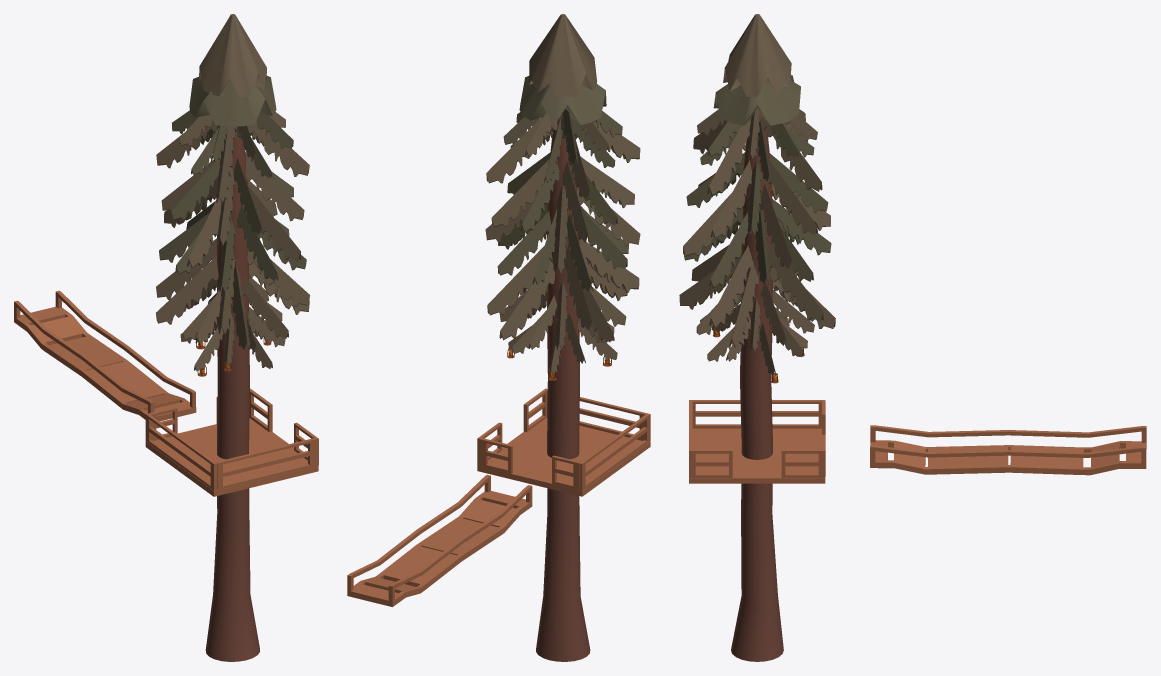
Rendered from BRIDGE_UNCONNECTED_FOR_MAYA.fbx.
3 renders of one model, left to right at view 1: azimuth 30°, elevation 25°; view 2: azimuth 150°, elevation 25°; view 3: azimuth 270°, elevation 25°, orthographic.
Parts seen in each view (by area): view 1: Tree_and_hanginglamps9, bridge12, Platform, Closed_Fence_short, Closed_Fence, Open_Fence, Open_Fence_short; view 2: Tree_and_hanginglamps9, bridge12, Platform, Closed_Fence, Open_Fence_short, Open_Fence, Closed_Fence_short; view 3: Tree_and_hanginglamps9, bridge12, Platform, Open_Fence, Closed_Fence.
Part boxes in pixels (<box>): Tree_and_hanginglamps9: <box>156,14,309,661</box>; bridge12: <box>14,290,196,421</box>; Platform: <box>145,418,318,496</box>; Closed_Fence_short: <box>215,438,315,490</box>; Closed_Fence: <box>145,413,216,491</box>; Open_Fence: <box>249,388,318,466</box>; Open_Fence_short: <box>149,396,217,440</box>; Tree_and_hanginglamps9: <box>485,14,640,661</box>; bridge12: <box>347,474,532,606</box>; Platform: <box>477,418,650,496</box>; Closed_Fence: <box>579,413,650,490</box>; Open_Fence_short: <box>480,438,580,490</box>; Open_Fence: <box>477,388,547,465</box>; Closed_Fence_short: <box>547,390,646,440</box>; Tree_and_hanginglamps9: <box>679,14,835,661</box>; bridge12: <box>870,425,1146,475</box>; Platform: <box>689,428,825,483</box>; Open_Fence: <box>689,449,825,477</box>; Closed_Fence: <box>689,400,825,428</box>.
Size of the model in its own units: 8.03 by 38.17 by 25.44.
